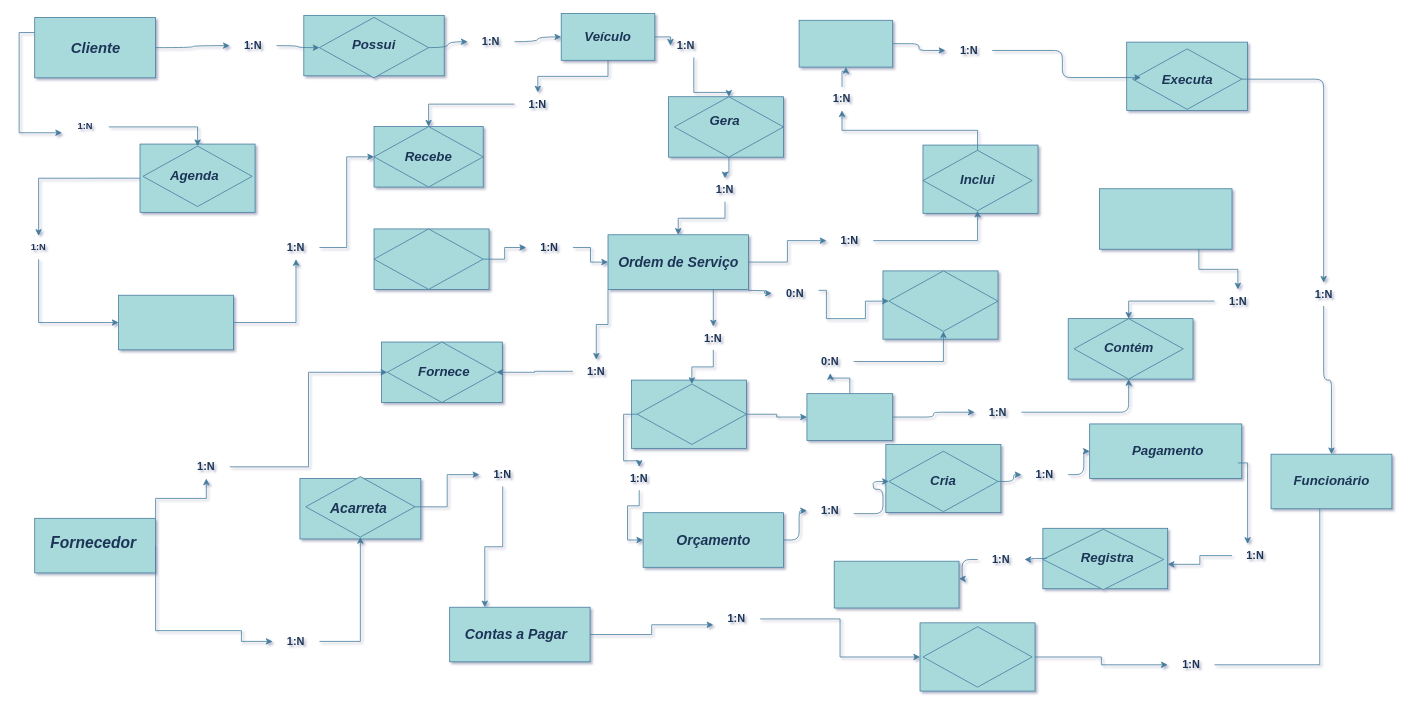
The diagram is 1410 pixels wide and 710 high, and some of its shapes have lost their labels. Each missing label, with the box of its shape:
Agendamento: (118, 294, 234, 350)
Causa: (373, 228, 483, 289)
Contas a Receber: (833, 560, 959, 608)
Estoque: (1099, 188, 1232, 249)
Ganha: (922, 626, 1032, 687)
Guarda: (636, 383, 746, 444)
Peça: (806, 393, 893, 440)
Serviço: (798, 20, 893, 67)
Usa: (888, 270, 998, 331)
